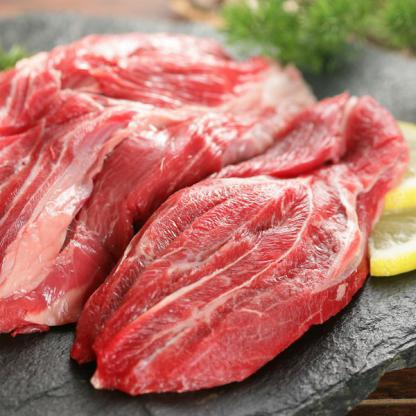beef: (3, 40, 392, 389)
